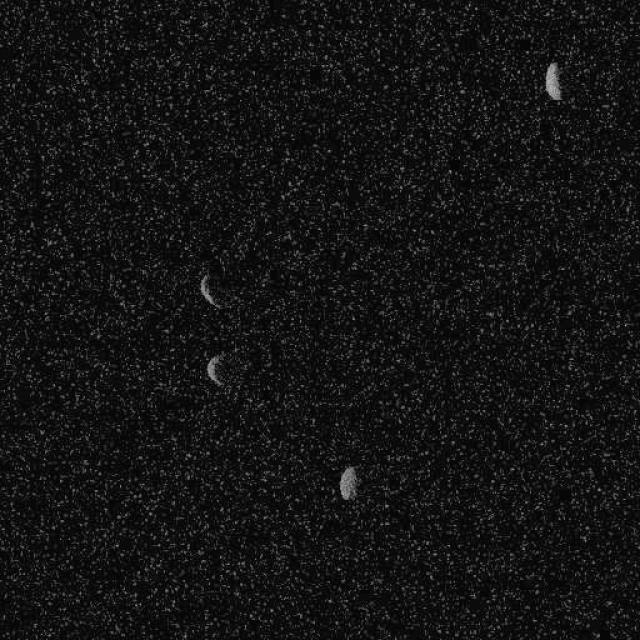D2: (205, 347, 251, 388), (198, 271, 226, 310), (205, 352, 226, 386), (544, 61, 562, 100), (338, 465, 358, 500)
